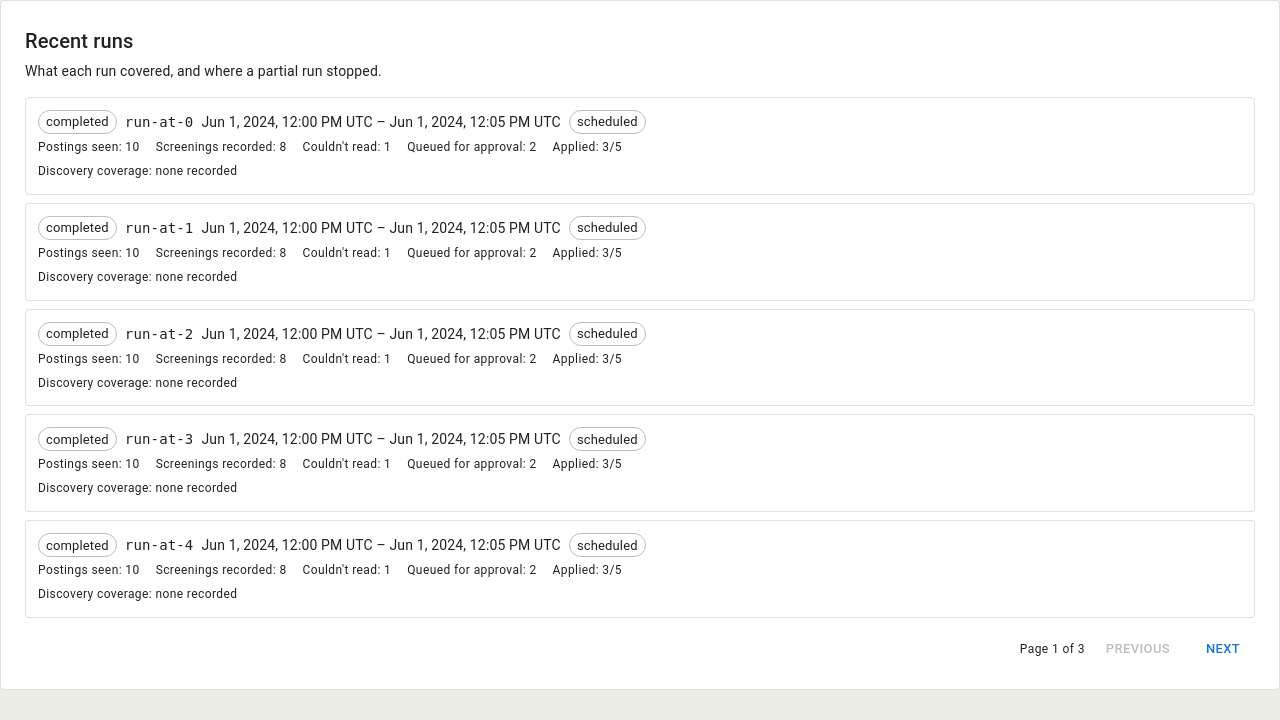
Test: RecentRunsSection › pages forward and back by five, and disables the ends
The width and height of the screenshot is (1280, 720).
Expected: the text "run-at-0" is shown, [125,112,193,132]
Expected: the text "Page 1 of 3" is shown, [1020,640,1085,659]
Click the button "Next" at coordinates (1223, 650), box [1191,634,1255,665]
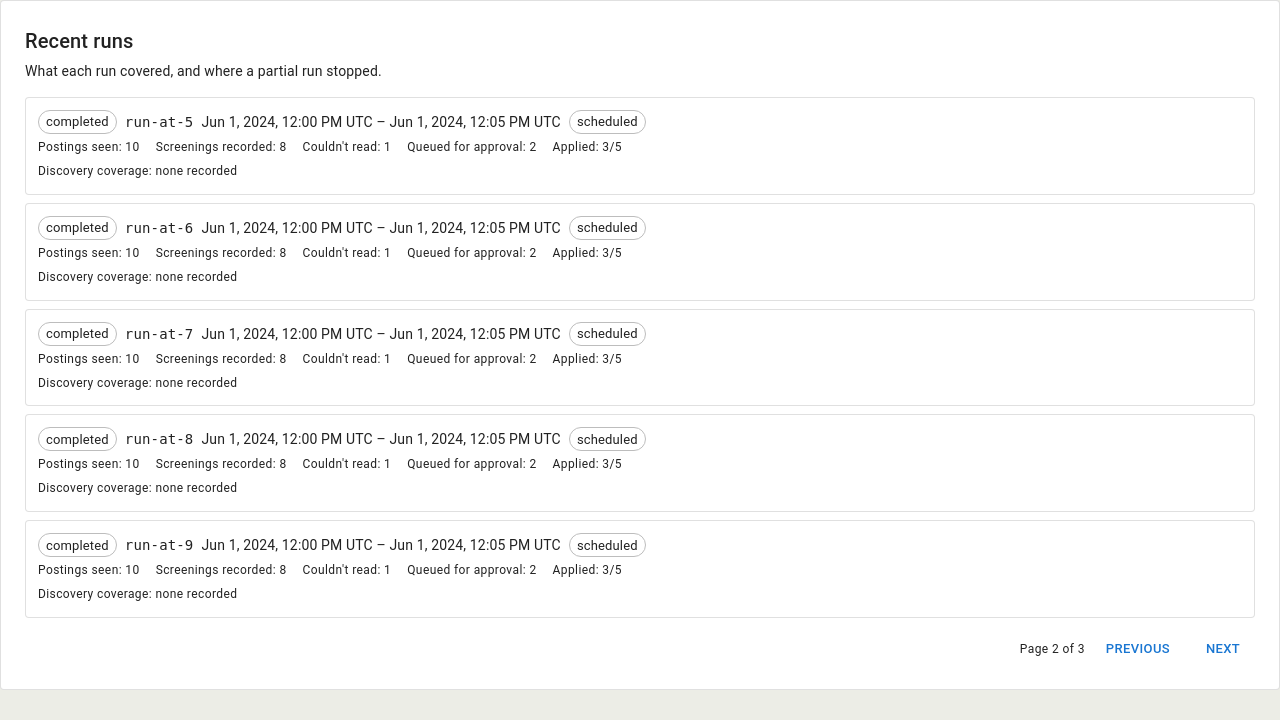
Now the text "run-at-5" is shown, box [125,112,193,132]
Now the text "Page 2 of 3" is shown, box [1020,640,1085,659]
Click the button "Next" at coordinates (1223, 650), box [1191,634,1255,665]
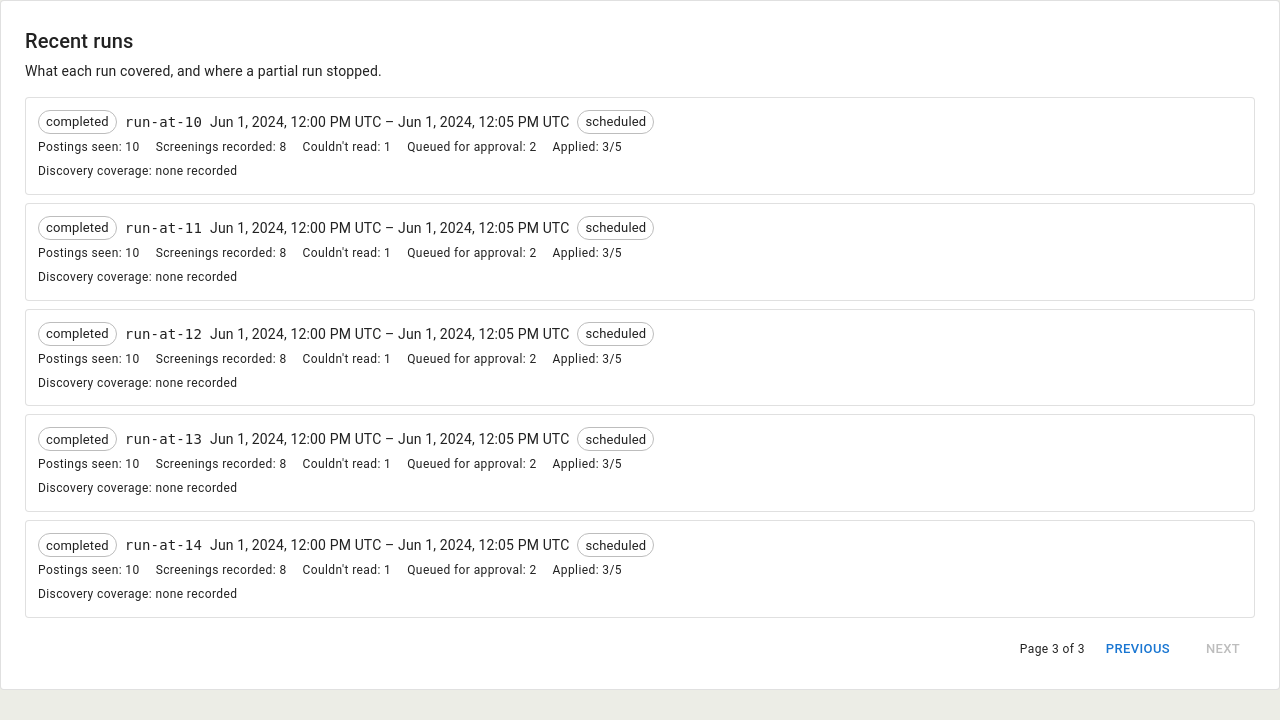
Now the text "run-at-10" is shown, box [125,112,202,132]
Now the text "Page 3 of 3" is shown, box [1020,640,1085,659]
Now the button "Next" is disabled, box [1191,634,1255,665]
Click the button "Previous" at coordinates (1138, 650), box [1101,634,1175,665]
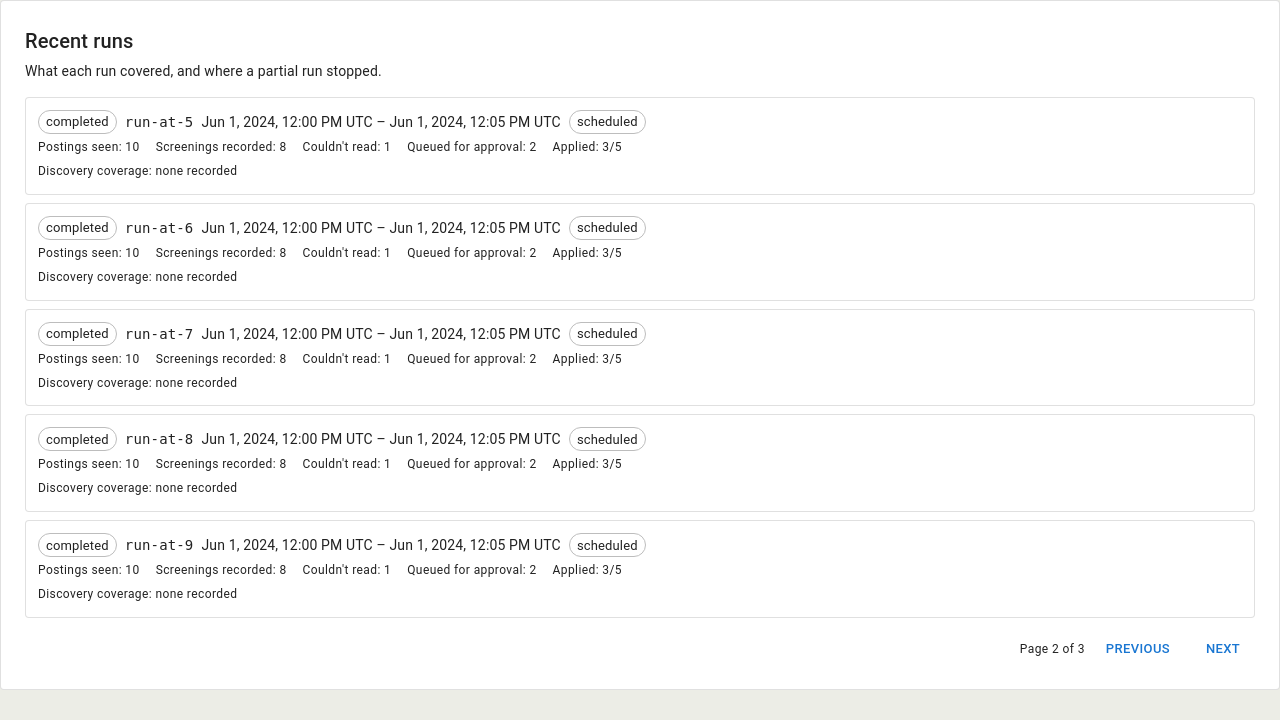
Now the text "Page 2 of 3" is shown, box [1020,640,1085,659]
